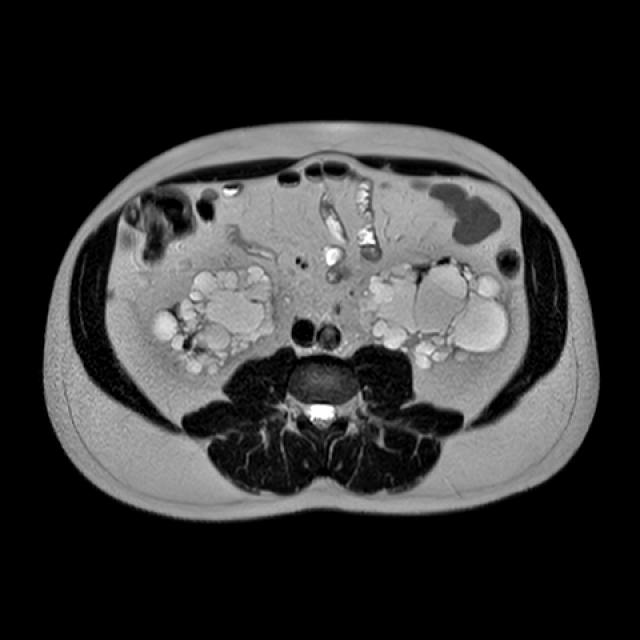sag: (151, 268, 276, 375)
sol: (357, 256, 512, 369)
